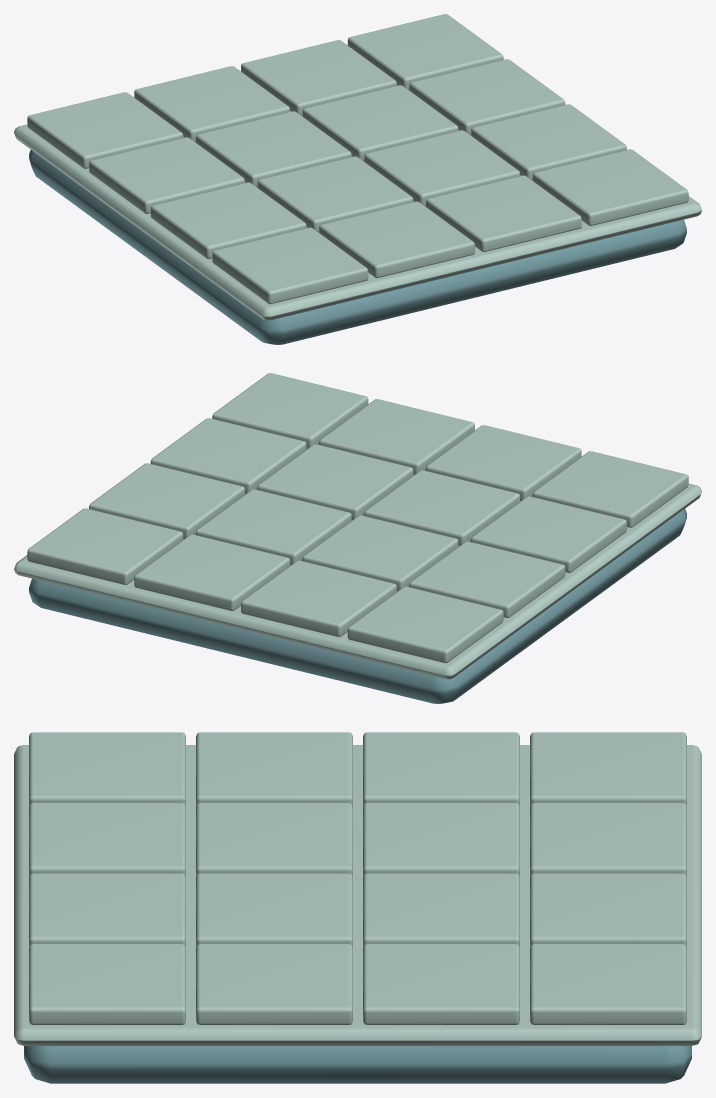
The model's file is QuayTile.fbx.
The picture shows the model from 3 angles, top to bottom: view 1: azimuth 30°, elevation 25°; view 2: azimuth 150°, elevation 25°; view 3: azimuth 270°, elevation 25°; orthographic projection. The views are drawn at different scales.
Parts seen in each view (by area): view 1: QuayTile_Static; view 2: QuayTile_Static; view 3: QuayTile_Static.
Boxes of the visible parts, <box> form: QuayTile_Static: <box>14,14,701,344</box>; QuayTile_Static: <box>14,373,701,703</box>; QuayTile_Static: <box>14,732,701,1083</box>.
Bounding box in the file's own units: 4.12 × 0.55 × 4.12.
1 material, 1 textured.
